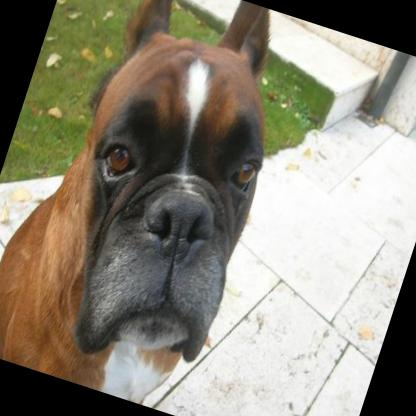boxer: (0, 0, 312, 416)
